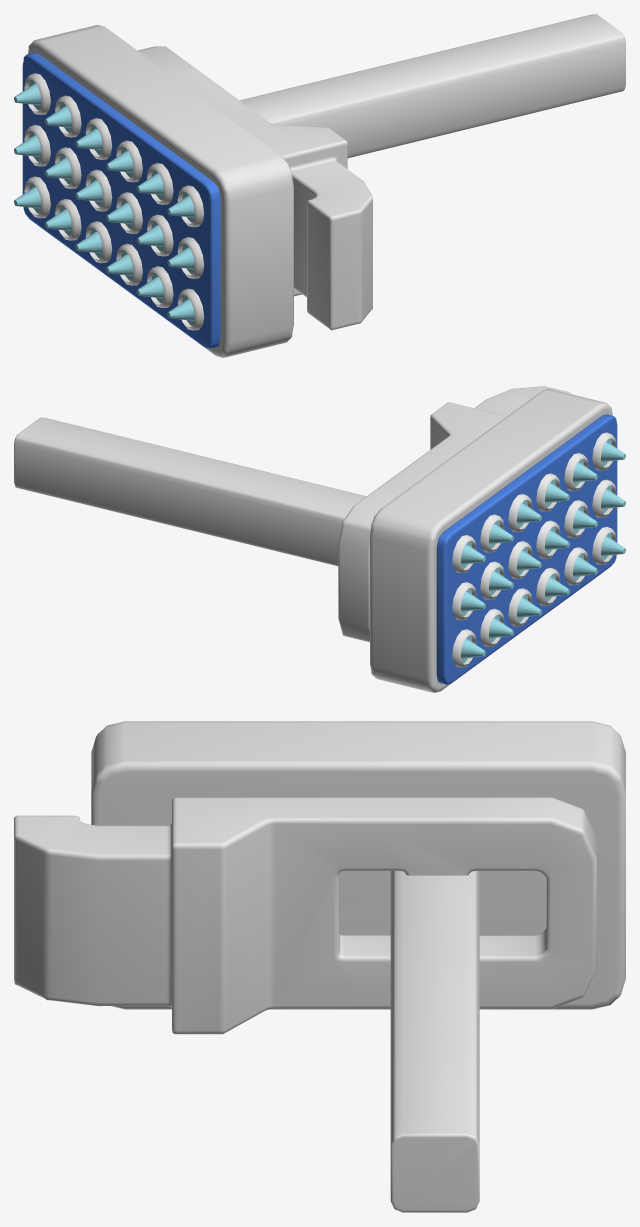
The model's file is Barbedtrap2.fbx.
The picture shows the model from 3 angles, top to bottom: view 1: azimuth 30°, elevation 25°; view 2: azimuth 150°, elevation 25°; view 3: azimuth 270°, elevation 25°; orthographic projection. The views are drawn at different scales.
Visible parts, largest first — view 1: Cube.019, Cube.018; view 2: Cube.019, Cube.018; view 3: Cube.018, Cube.019.
Part boxes in pixels (bbox=[...]): Cube.019: bbox=[14, 14, 625, 357]; Cube.018: bbox=[137, 46, 372, 330]; Cube.019: bbox=[14, 389, 625, 692]; Cube.018: bbox=[338, 386, 571, 642]; Cube.018: bbox=[14, 797, 596, 1034]; Cube.019: bbox=[91, 721, 625, 1212].
Size of the model in its own units: 3.96 by 1.28 by 2.88.
